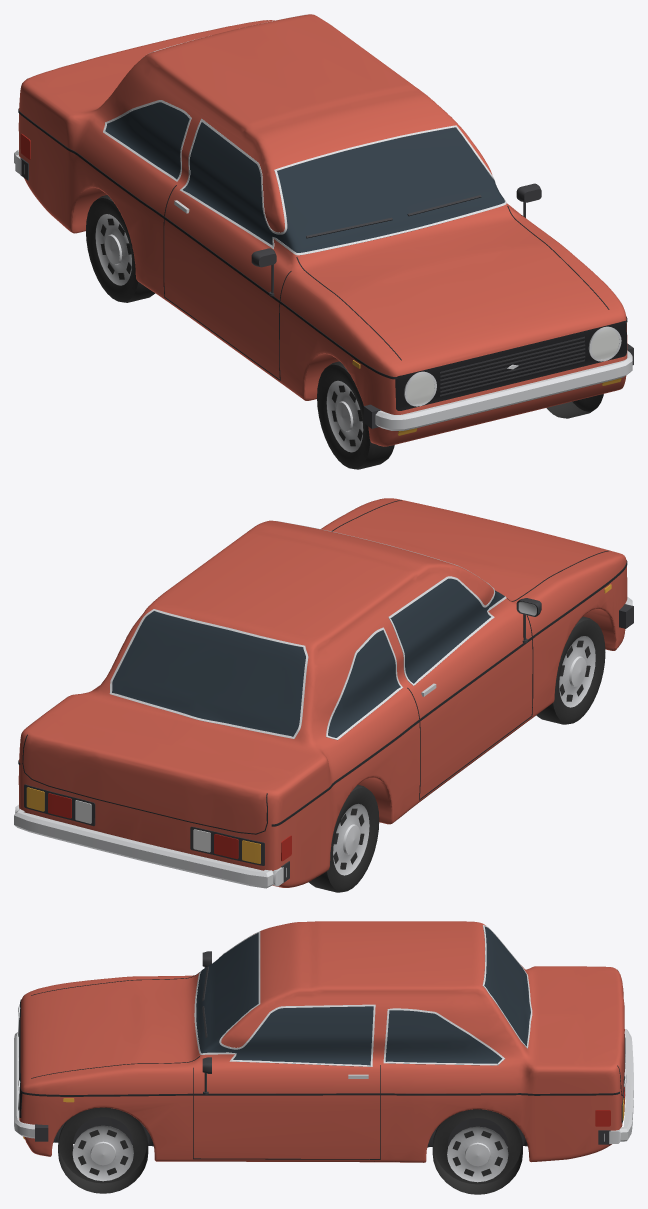
Rendered from escort.glb.
3 views of the same model, one above another, from view 1: azimuth 30°, elevation 25°; view 2: azimuth 150°, elevation 25°; view 3: azimuth 270°, elevation 25° (orthographic). The views are drawn at different scales.
Parts seen in each view (by area): view 1: paint, glass, trim, wheel_fr, wheel_rr, headlights, mirrors, wheel_fl; view 2: paint, glass, trim, wheel_fr, wheel_rr, taillights, reverse_lights; view 3: paint, glass, trim, wheel_fl, wheel_rl.
Boxes of the visible parts, x1,y1,x2,y2 form: paint: (18,14,627,446); glass: (105,102,504,252); trim: (14,14,633,430); wheel_fr: (317,361,394,469); wheel_rr: (86,195,155,302); headlights: (407,329,619,404); mirrors: (251,183,541,296); wheel_fl: (546,394,603,418); paint: (18,498,627,887); glass: (112,578,504,737); trim: (14,500,633,888); wheel_fr: (536,616,605,724); wheel_rr: (308,785,379,892); taillights: (48,793,291,861); reverse_lights: (75,800,210,852); paint: (19,921,624,1162); glass: (196,926,530,1065); trim: (14,925,633,1159); wheel_fl: (58,1107,148,1193); wheel_rl: (432,1109,522,1194).
Bounding box in the file's own units: 1.74 × 1.39 × 3.98.
